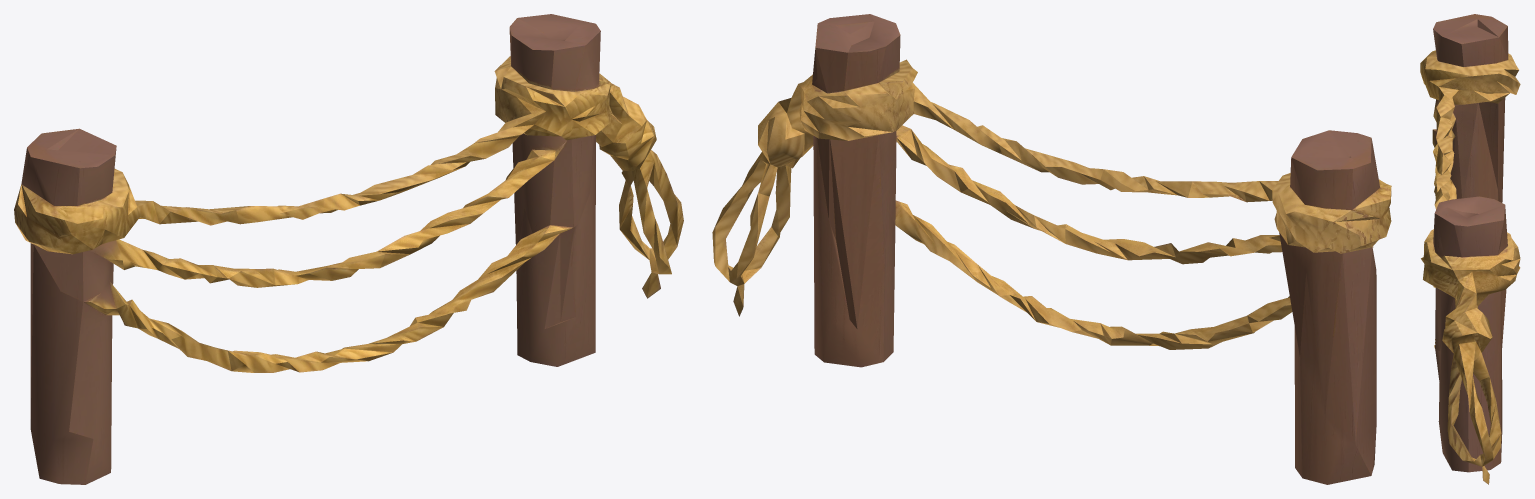
The model's file is fence-rope.glb.
3 views of the same model, side by side, from view 1: azimuth 30°, elevation 25°; view 2: azimuth 150°, elevation 25°; view 3: azimuth 270°, elevation 25° (orthographic). The views are drawn at different scales.
Size of the model in its own units: 1.9 by 0.8771 by 0.3178.
Materials: 1 (1 with a texture image).
